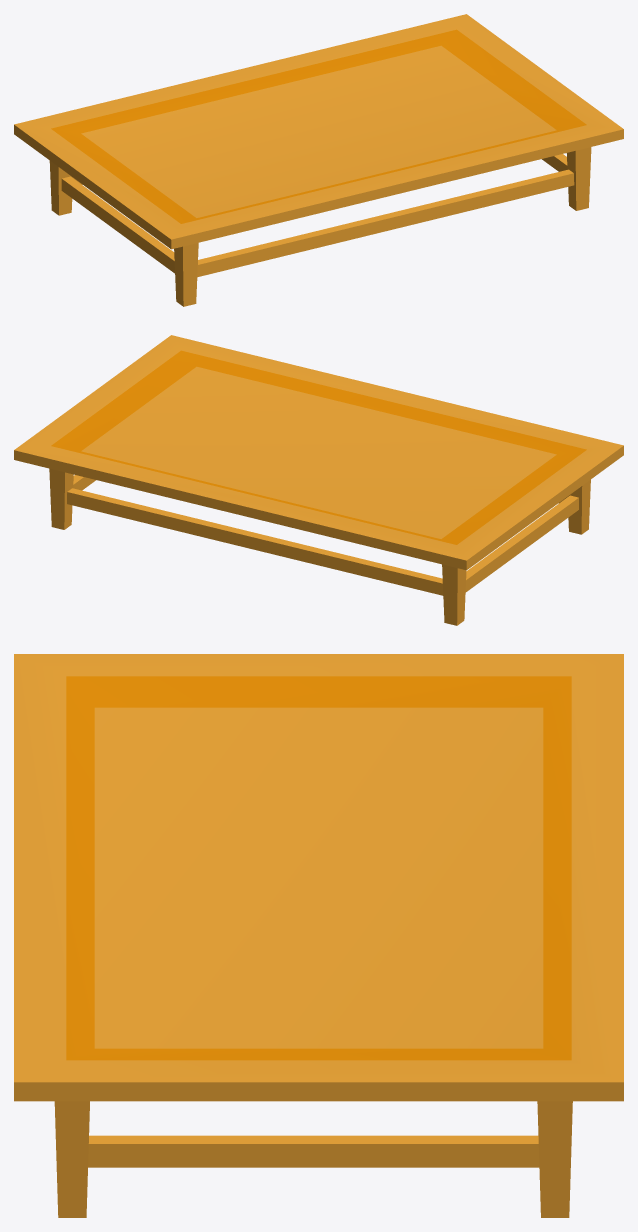
The model's file is CentroMesa.fbx.
3 views of the same model, one above another, from view 1: azimuth 30°, elevation 25°; view 2: azimuth 150°, elevation 25°; view 3: azimuth 270°, elevation 25° (orthographic). The views are drawn at different scales.
Parts seen in each view (by area): view 1: CentroMesa; view 2: CentroMesa; view 3: CentroMesa.
Boxes of the visible parts, bbox=[...] form: CentroMesa: bbox=[14, 14, 623, 306]; CentroMesa: bbox=[14, 335, 623, 625]; CentroMesa: bbox=[14, 654, 623, 1217].
Size of the model in its own units: 1.2 by 0.2066 by 0.7239.
